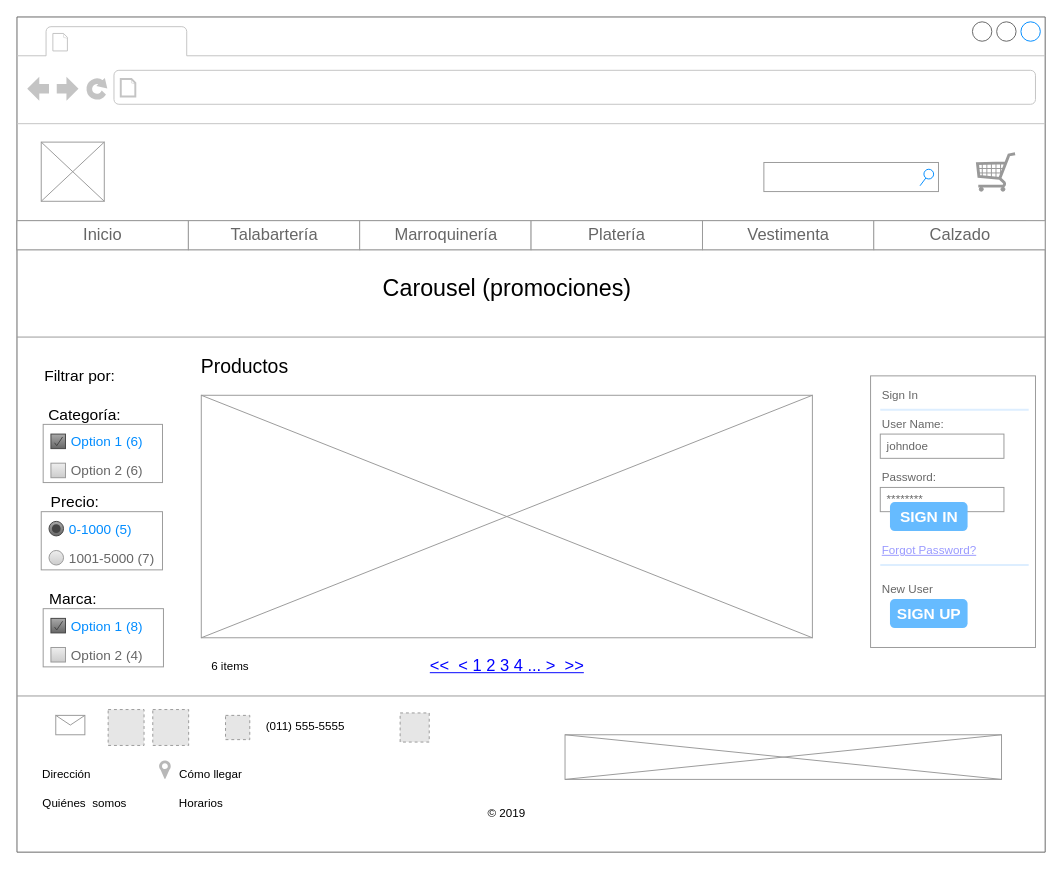
Image size: 1062x869. Some labels were removed from this diagram. Grey dashed boxes stand in for pictures. The box of each missing label's shape, as (x1, y1, x2, y2) in pixels:
https://www.talabarteria.com.ar: (142, 74, 386, 100)
Logo: (40, 141, 104, 201)
Medios de pago: (564, 734, 1002, 779)
Search: (763, 162, 938, 192)
Talabarteria: (74, 28, 182, 54)
